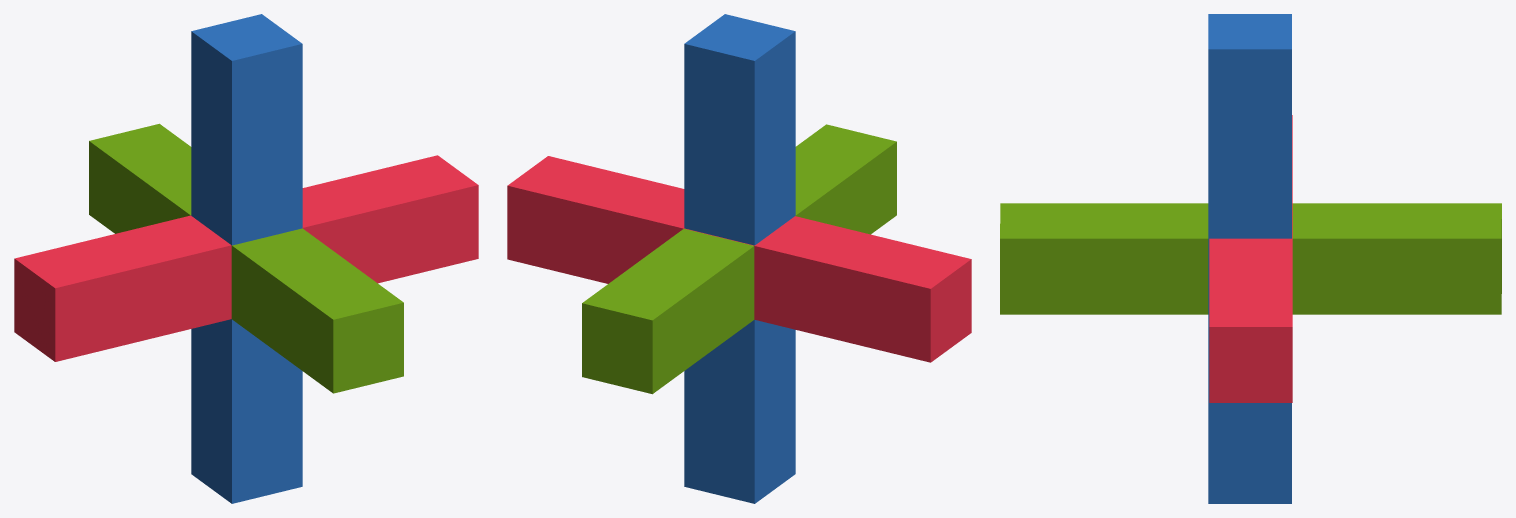
The model's file is Marker.fbx.
The picture shows the model from 3 angles, left to right: view 1: azimuth 30°, elevation 25°; view 2: azimuth 150°, elevation 25°; view 3: azimuth 270°, elevation 25°; orthographic projection. The views are drawn at different scales.
Parts seen in each view (by area): view 1: Cube.003; view 2: Cube.003; view 3: Cube.003.
Part boxes in pixels (bbox=[...]): Cube.003: bbox=[14, 14, 478, 503]; Cube.003: bbox=[507, 14, 971, 503]; Cube.003: bbox=[1000, 14, 1501, 503].
Bounding box in the file's own units: 300 × 300 × 300.
